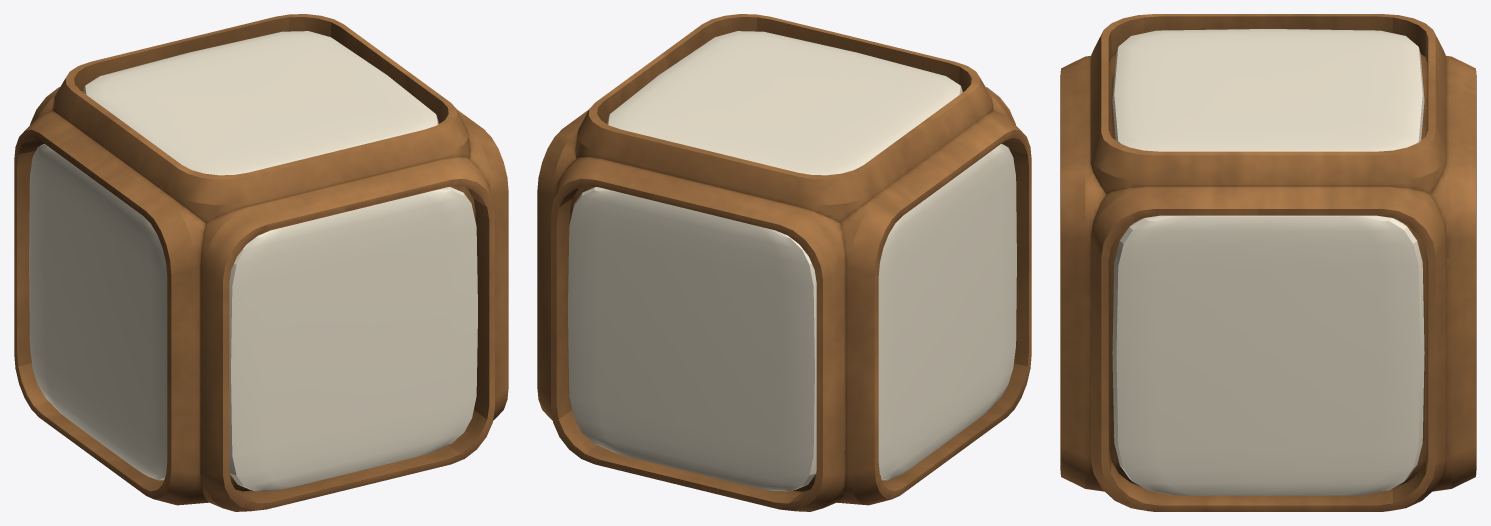
File: foundation_block.glb
3 renders of one model, left to right at view 1: azimuth 30°, elevation 25°; view 2: azimuth 150°, elevation 25°; view 3: azimuth 270°, elevation 25°, orthographic. The views are drawn at different scales.
Parts seen in each view (by area): view 1: Cube, Front, Left, Top; view 2: Cube, Back, Left, Top; view 3: Right, Cube, Top.
Boxes of the visible parts, bbox=[...] form: Cube: bbox=[14, 14, 508, 511]; Front: bbox=[229, 187, 477, 491]; Left: bbox=[29, 144, 167, 480]; Top: bbox=[83, 31, 438, 175]; Cube: bbox=[537, 14, 1031, 511]; Back: bbox=[568, 187, 816, 491]; Left: bbox=[878, 144, 1016, 480]; Top: bbox=[607, 31, 962, 175]; Right: bbox=[1112, 215, 1424, 495]; Cube: bbox=[1060, 14, 1476, 511]; Top: bbox=[1112, 29, 1424, 151].
Bounding box in the file's own units: 0.854 × 0.8276 × 0.854.
2 materials, 1 textured.
